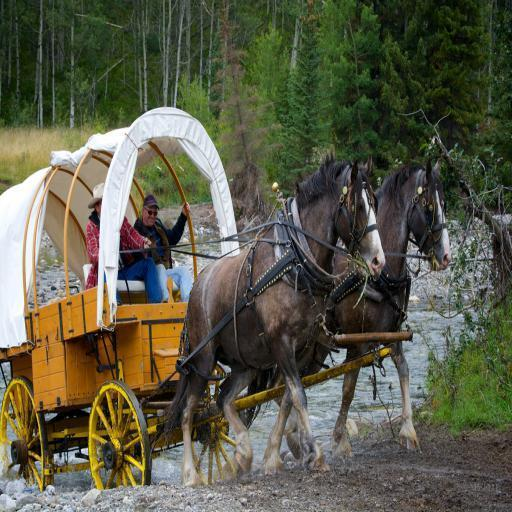horse: (161, 151, 386, 489), (240, 157, 452, 462)
